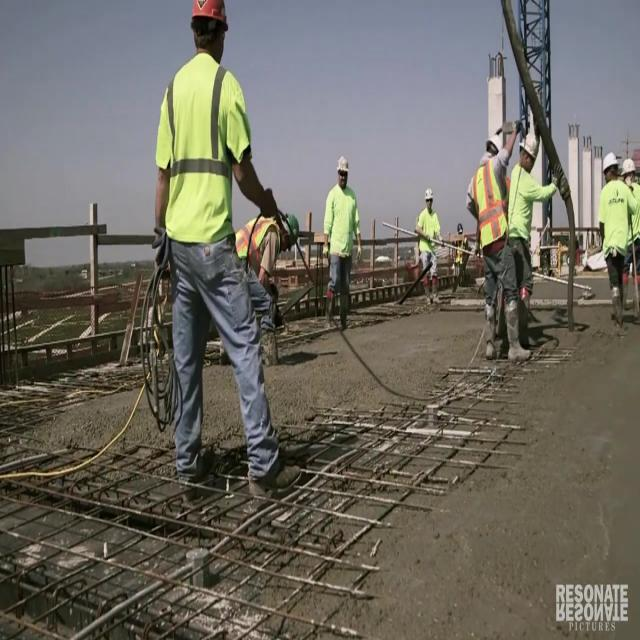Reflective-Jacket: (144, 54, 262, 267), (468, 157, 512, 260), (231, 207, 285, 284)
Safety-Helmet: (183, 0, 235, 40), (517, 127, 542, 163), (479, 128, 504, 163), (331, 148, 355, 182), (600, 146, 620, 177), (420, 181, 438, 208), (621, 154, 637, 180)
